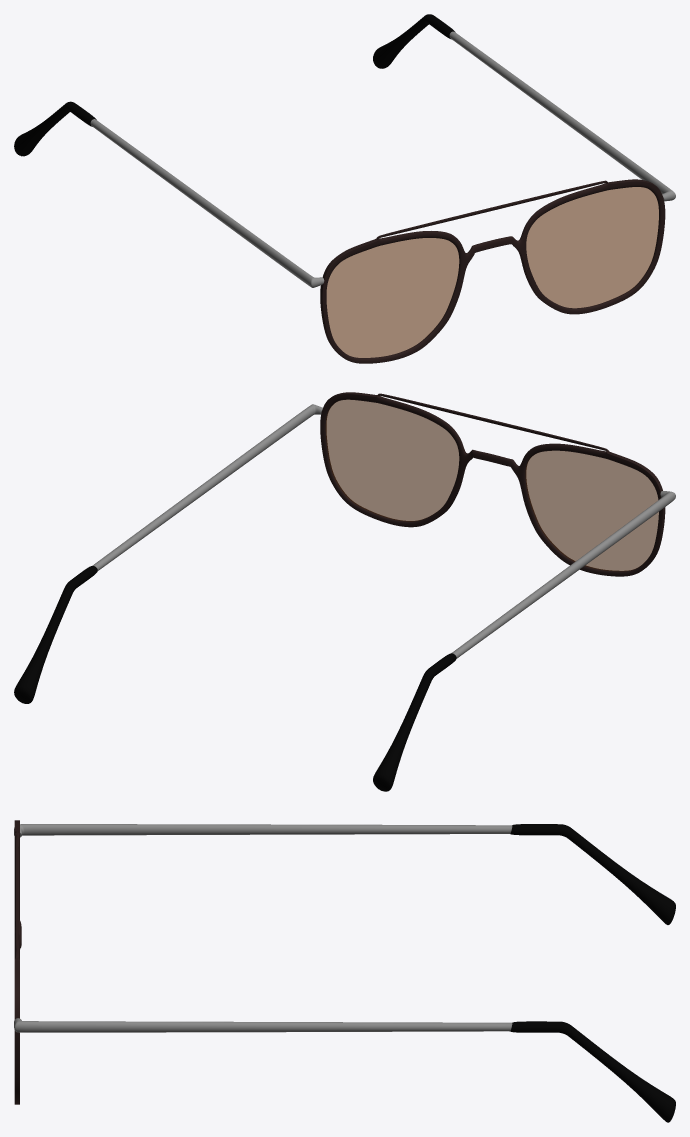
The model's file is glasses-12.glb.
The picture shows the model from 3 angles, top to bottom: view 1: azimuth 30°, elevation 25°; view 2: azimuth 150°, elevation 25°; view 3: azimuth 270°, elevation 25°; orthographic projection. The views are drawn at different scales.
Visible parts, largest first — view 1: Plane.001, Plane, Cylinder.001, Cylinder; view 2: Plane.001, Plane, Cylinder, Cylinder.001; view 3: Cylinder, Cylinder.001, Plane.
Boxes of the visible parts, x1,y1,x2,y2 form: Plane.001: (326, 187, 658, 357); Plane: (320, 179, 665, 363); Cylinder.001: (14, 101, 324, 287); Cylinder: (373, 14, 675, 201); Plane.001: (325, 399, 658, 571); Plane: (320, 392, 665, 576); Cylinder: (14, 404, 322, 703); Cylinder.001: (373, 491, 675, 791); Cylinder: (14, 1018, 675, 1122); Cylinder.001: (14, 824, 675, 924); Plane: (14, 820, 21, 1104).
Bounding box in the file's own units: 17.01 × 5.49 × 22.9.
